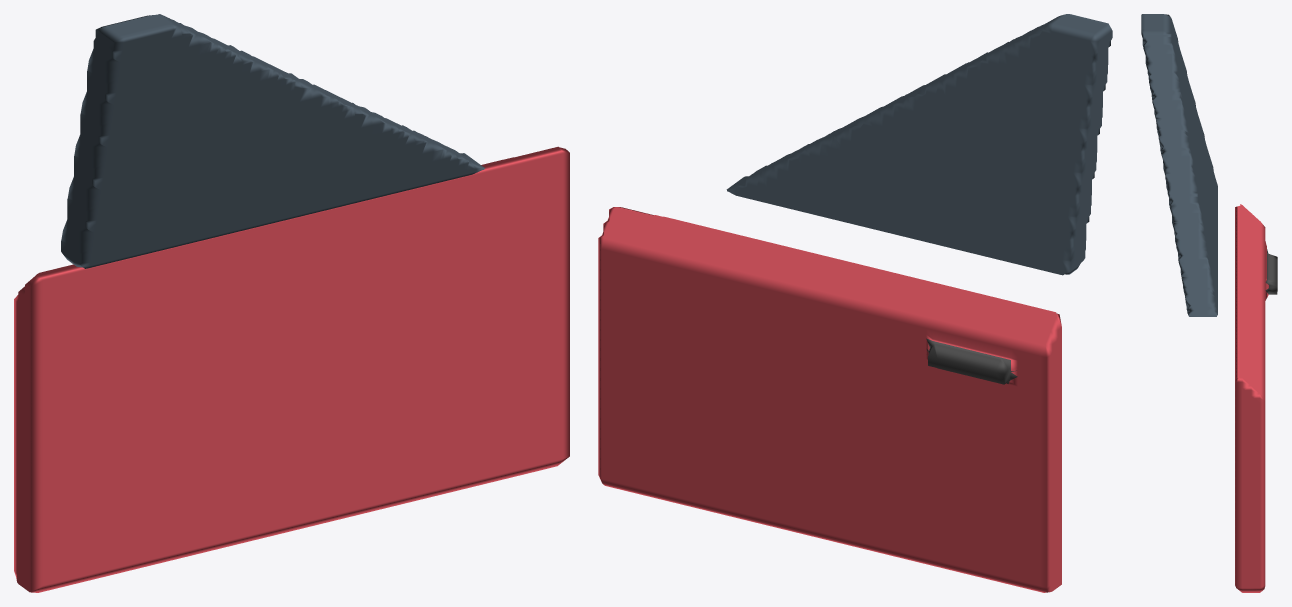
The model's file is door_left.glb.
The picture shows the model from 3 angles, left to right: view 1: azimuth 30°, elevation 25°; view 2: azimuth 150°, elevation 25°; view 3: azimuth 270°, elevation 25°; orthographic projection. The views are drawn at different scales.
Parts seen in each view (by area): view 1: door_left; view 2: door_left; view 3: door_left.
Boxes of the visible parts, box(x1,y1,x2,y2) form: door_left: box(14, 14, 569, 592); door_left: box(598, 14, 1112, 592); door_left: box(1141, 14, 1277, 592).
Bounding box in the file's own units: 10.3 × 11.15 × 3.35.
